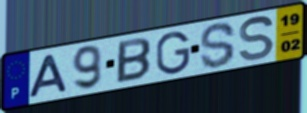9: (70, 44, 104, 92)
A: (26, 53, 70, 100)
B: (114, 36, 153, 86)
G: (154, 30, 192, 77)
S: (199, 21, 238, 71), (238, 15, 276, 62)
